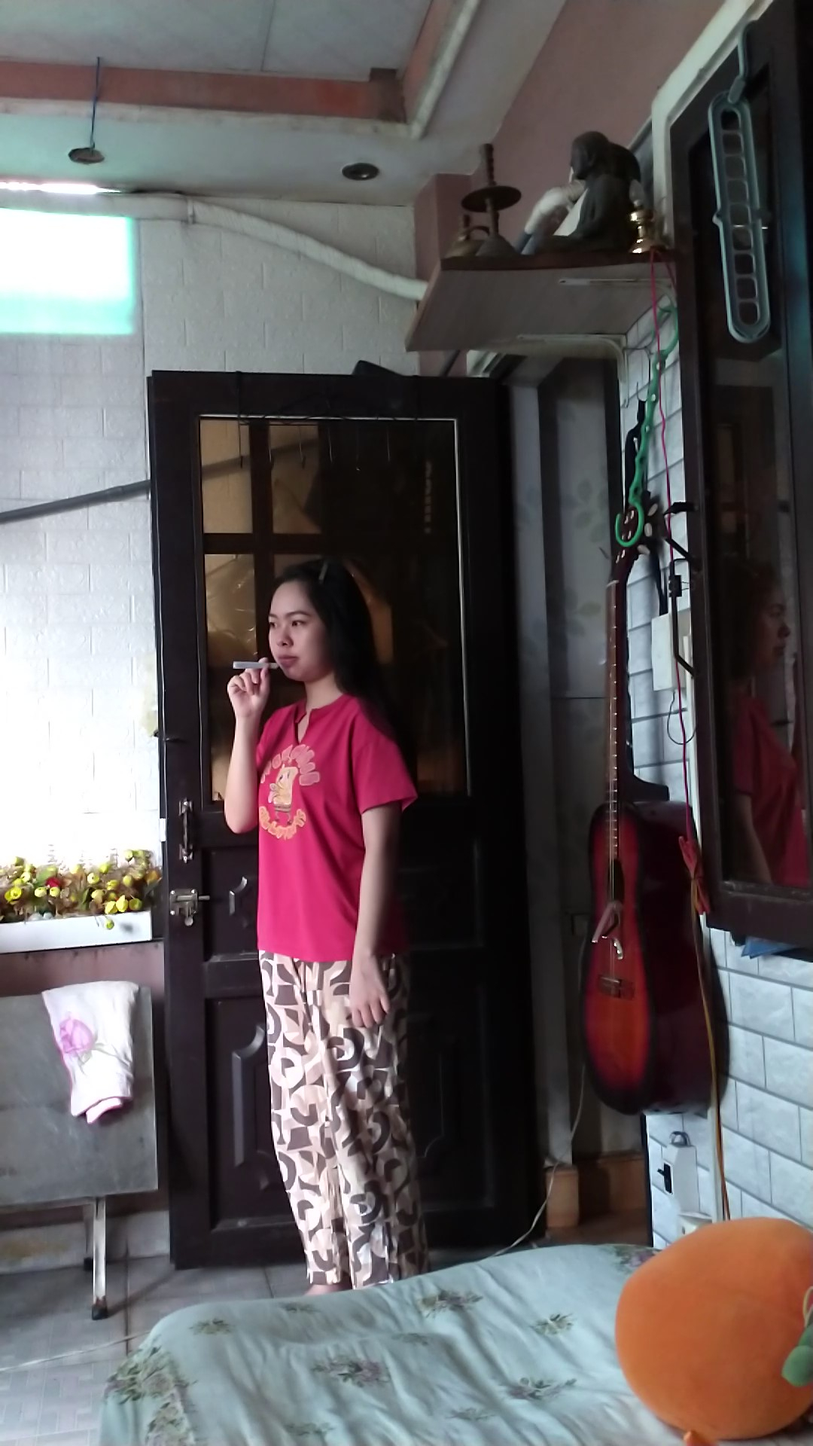cigarette: (230, 659, 279, 673)
person: (221, 551, 416, 1299)
